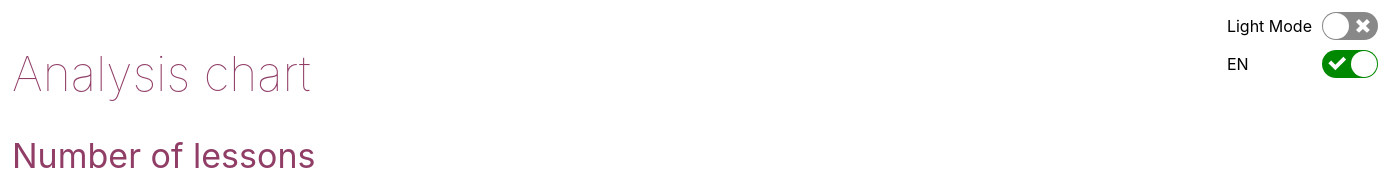
it: Header Component › switch theme change
Click the switch with test id "changeTheme": [1302, 26] box 1227,12 -> 1378,40
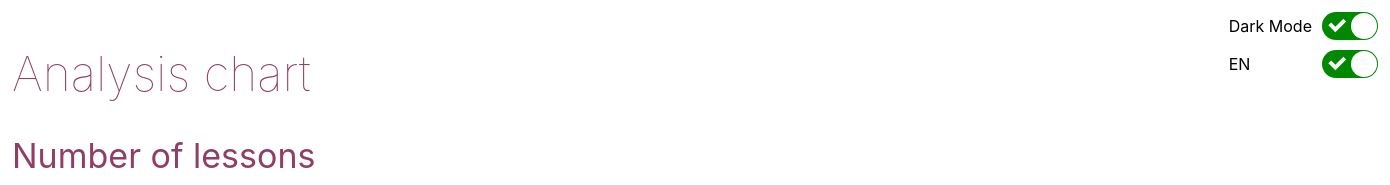
Expected: the text "Dark Mode" is shown, 1229,16 -> 1312,36
